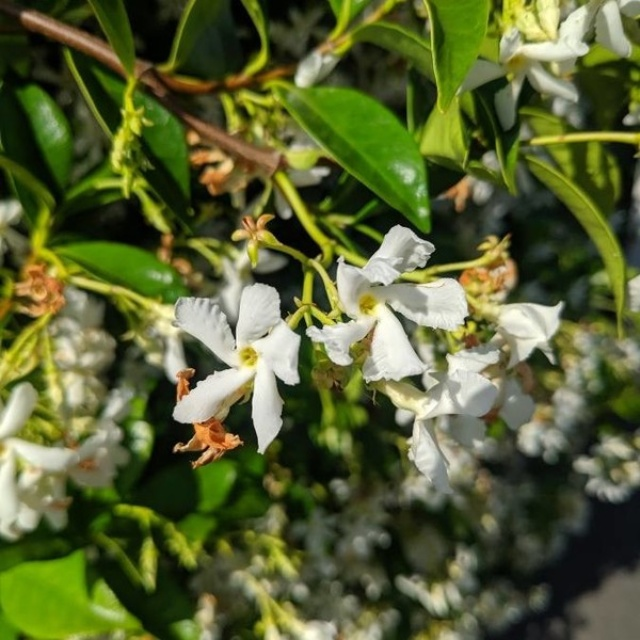obstacle: (67, 84, 577, 478)
